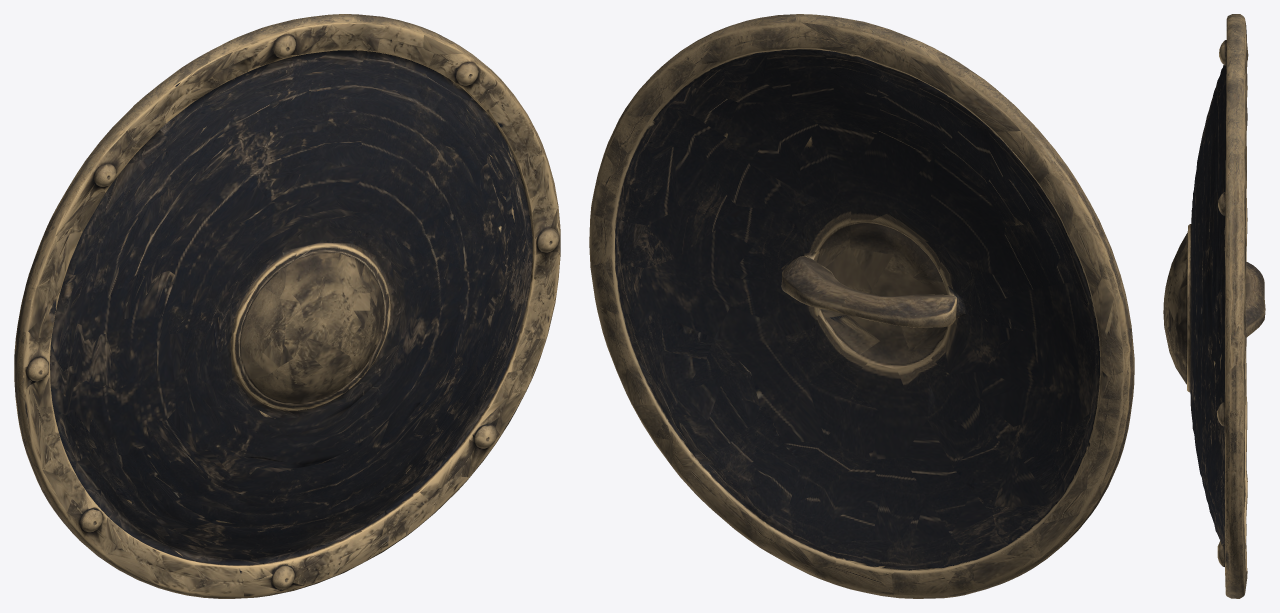
The model's file is buckler.glb.
3 views of the same model, side by side, from view 1: azimuth 30°, elevation 25°; view 2: azimuth 150°, elevation 25°; view 3: azimuth 270°, elevation 25° (orthographic). The views are drawn at different scales.
Visible parts, largest first — view 1: buckler; view 2: buckler; view 3: buckler.
Part boxes in pixels (bbox=[...]): buckler: bbox=[14, 14, 560, 598]; buckler: bbox=[589, 14, 1134, 598]; buckler: bbox=[1163, 14, 1265, 598].
Bounding box in the file's own units: 0.4198 × 0.4199 × 0.0733.
Materials: 1 (1 with a texture image).
